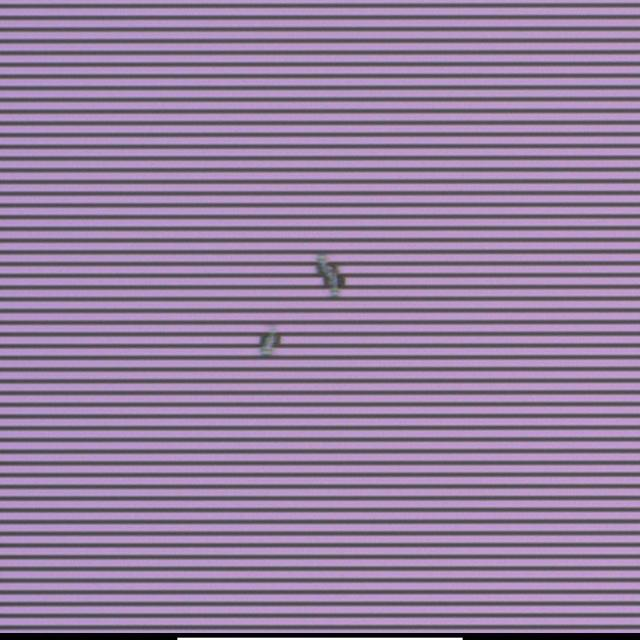nonvisual: (312, 248, 349, 296), (257, 328, 283, 358)
